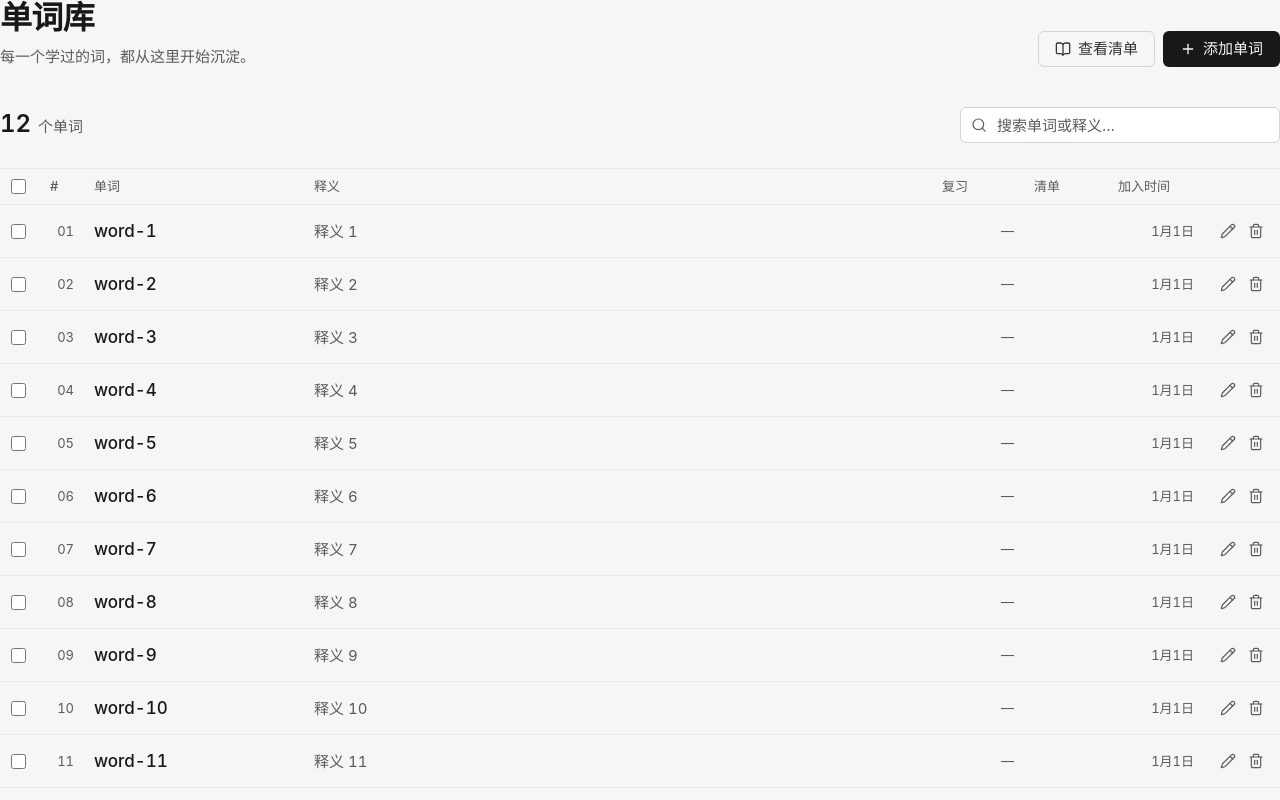
Test case: 单词的新增与编辑对话框 › 保存修改后关闭对话框，焦点回到行内铅笔按钮
Click the button named "编辑 word-2": [1228, 284] box [1214,269,1242,299]
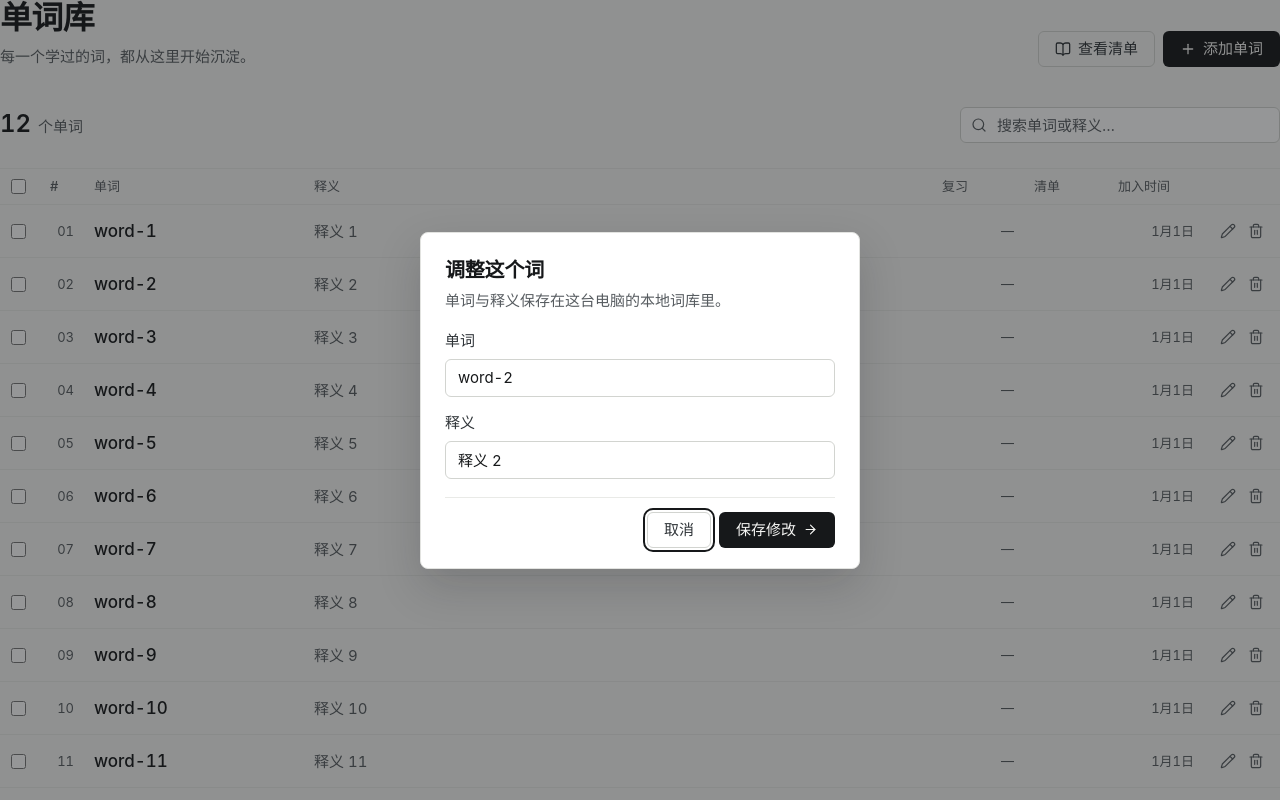
Replace the text in the field labelled "单词" with "revised": [640, 378] box [445,358,835,396]
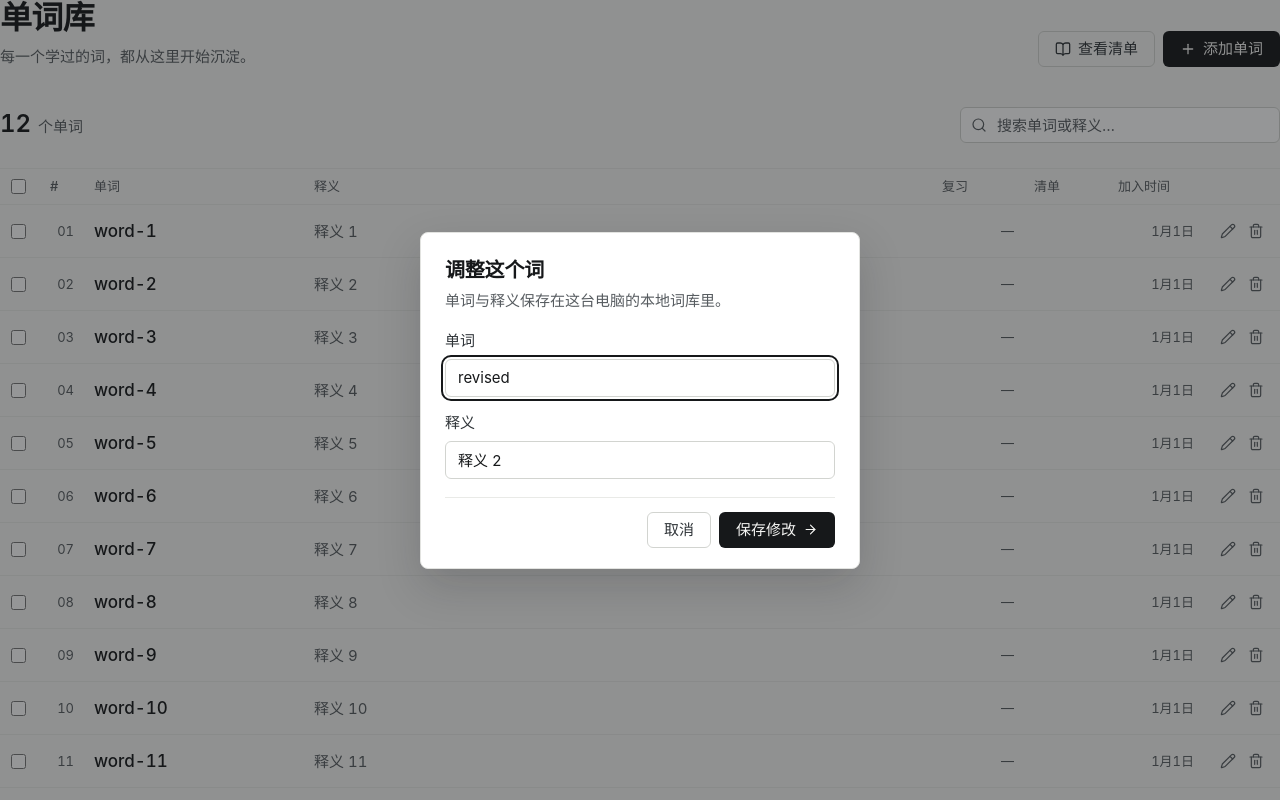
Click the button "保存修改": [777, 530] box [719,512,835,548]
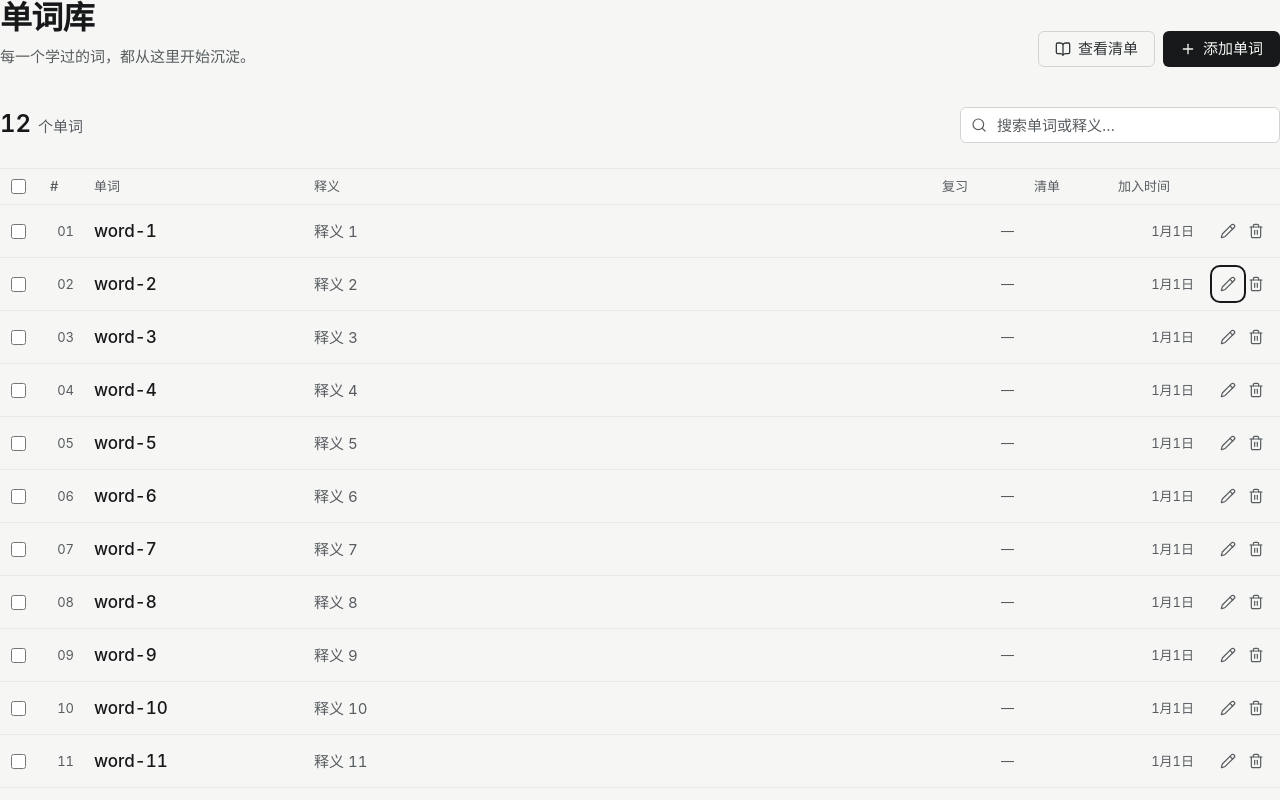
Now the dialog is gone
